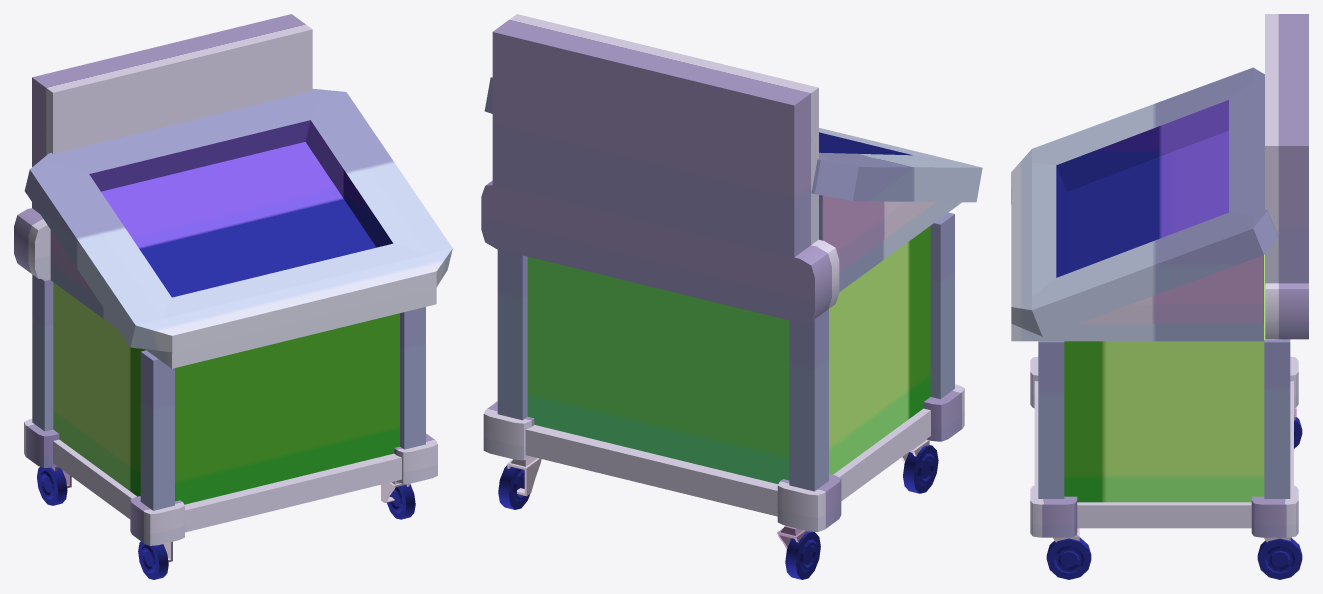
Rendered from Discarded.fbx.
3 views of the same model, side by side, from view 1: azimuth 30°, elevation 25°; view 2: azimuth 150°, elevation 25°; view 3: azimuth 270°, elevation 25° (orthographic). The views are drawn at different scales.
Parts seen in each view (by area): view 1: Discarded; view 2: Discarded; view 3: Discarded.
Boxes of the visible parts, left/top/right/bottom form: Discarded: left=14, top=14, right=452, bottom=579; Discarded: left=481, top=14, right=982, bottom=579; Discarded: left=1011, top=14, right=1308, bottom=579.
Bounding box in the file's own units: 73.26 × 92.14 × 57.18.
